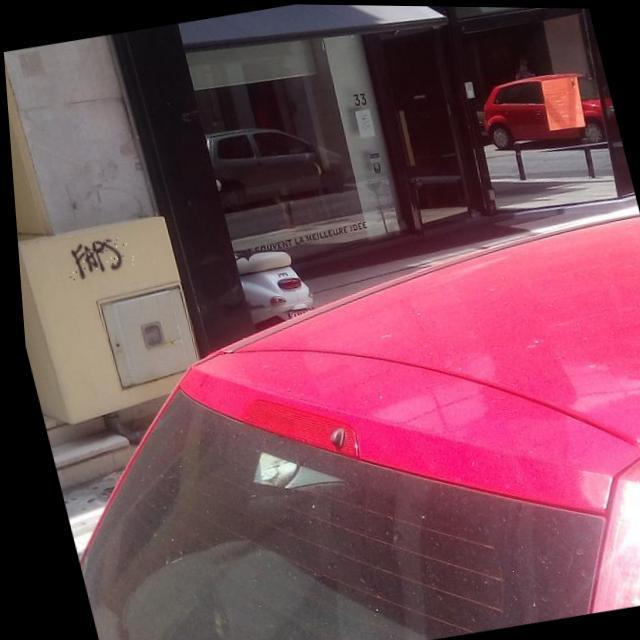-: (58, 233, 134, 280)
